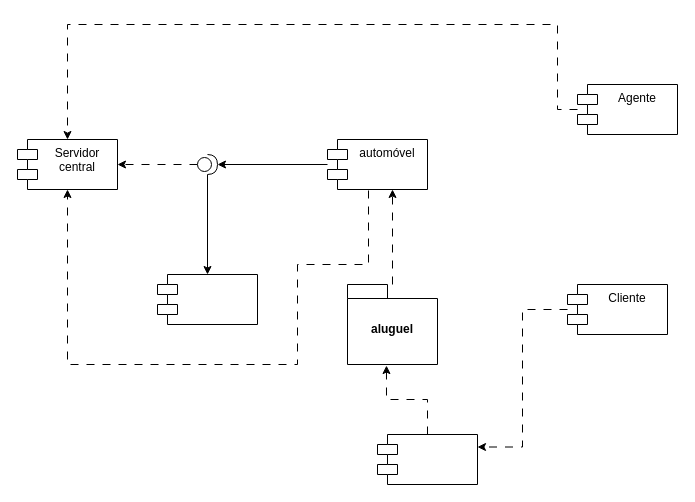
Some shapes in this 695 by 502 pixel diagram are drawn without their labels. Each missing label, with the centre of its shape:
"contrato" belongs at point (427, 459).
"Ver aluguel" belongs at point (207, 299).
